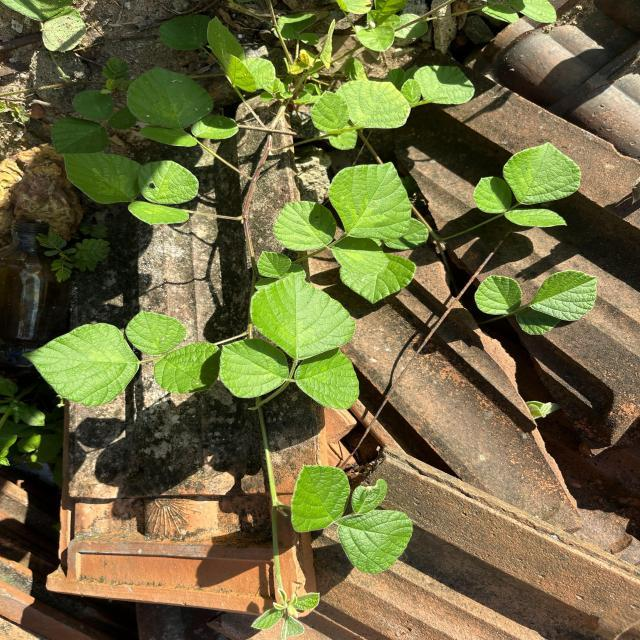Pseudarthria viscida: (218, 271, 361, 411), (21, 309, 220, 408), (272, 161, 413, 277), (61, 152, 200, 226), (472, 141, 582, 229), (125, 64, 240, 148), (473, 269, 599, 336)
